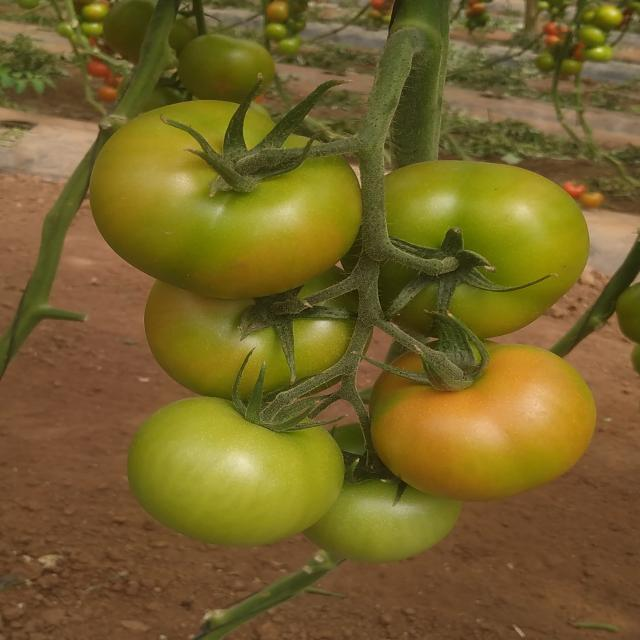Ripe Tomato: (80, 54, 110, 70), (95, 79, 124, 93)
Unripe Tomato: (96, 94, 352, 284), (380, 151, 586, 335), (374, 335, 599, 495), (131, 398, 321, 540), (154, 288, 344, 394), (338, 487, 450, 567), (178, 32, 272, 92), (590, 6, 626, 22), (574, 20, 604, 38), (78, 0, 100, 17)
